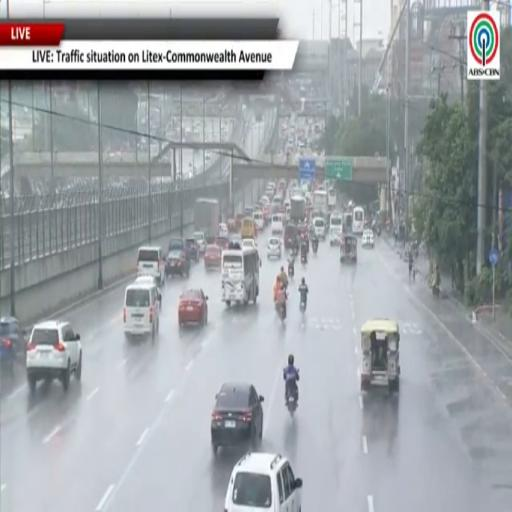bus: (222, 248, 260, 306), (330, 213, 342, 246), (352, 206, 364, 234), (328, 187, 336, 211)
car: (224, 453, 302, 511), (26, 320, 82, 393), (211, 383, 263, 455), (0, 316, 25, 376), (179, 288, 208, 326), (138, 247, 165, 284), (135, 274, 161, 308), (166, 250, 190, 277), (204, 245, 221, 269), (267, 237, 282, 259), (185, 238, 199, 261), (193, 232, 206, 254), (168, 238, 185, 251), (362, 230, 374, 248), (215, 236, 229, 250), (218, 223, 229, 238), (242, 238, 257, 248), (230, 234, 243, 245)
jeepney: (361, 318, 400, 392), (340, 234, 357, 263)
motorcycle: (286, 383, 297, 417), (286, 394, 297, 417), (276, 303, 286, 322), (432, 284, 440, 298), (288, 262, 294, 278), (300, 300, 306, 314), (312, 242, 318, 254), (301, 253, 306, 264), (376, 226, 380, 236)
truck: (194, 199, 219, 241), (290, 196, 306, 223), (313, 190, 327, 220)
